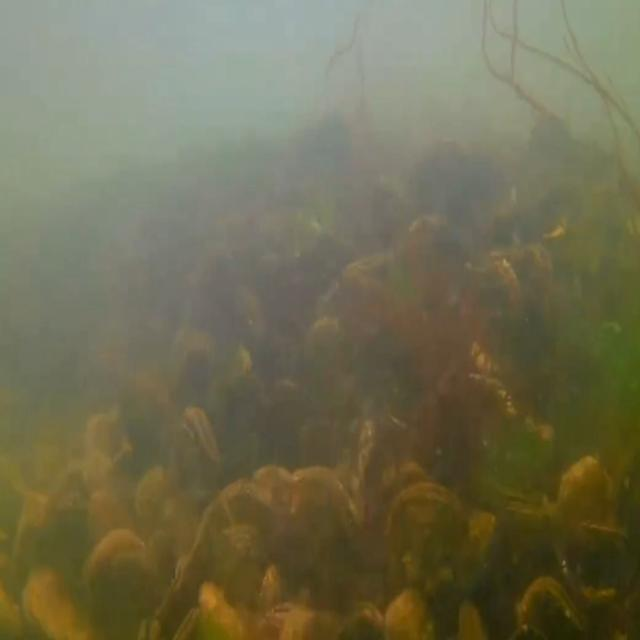Oyster-Closed: (149, 485, 302, 640), (550, 453, 624, 594), (514, 576, 588, 640)
Oyster-Indeterminate: (252, 466, 372, 638), (387, 482, 468, 639), (130, 455, 198, 596), (79, 529, 161, 640), (19, 563, 87, 640), (460, 258, 524, 326), (485, 244, 556, 305)
Oyster-Open: (173, 406, 222, 494), (346, 414, 376, 494)
